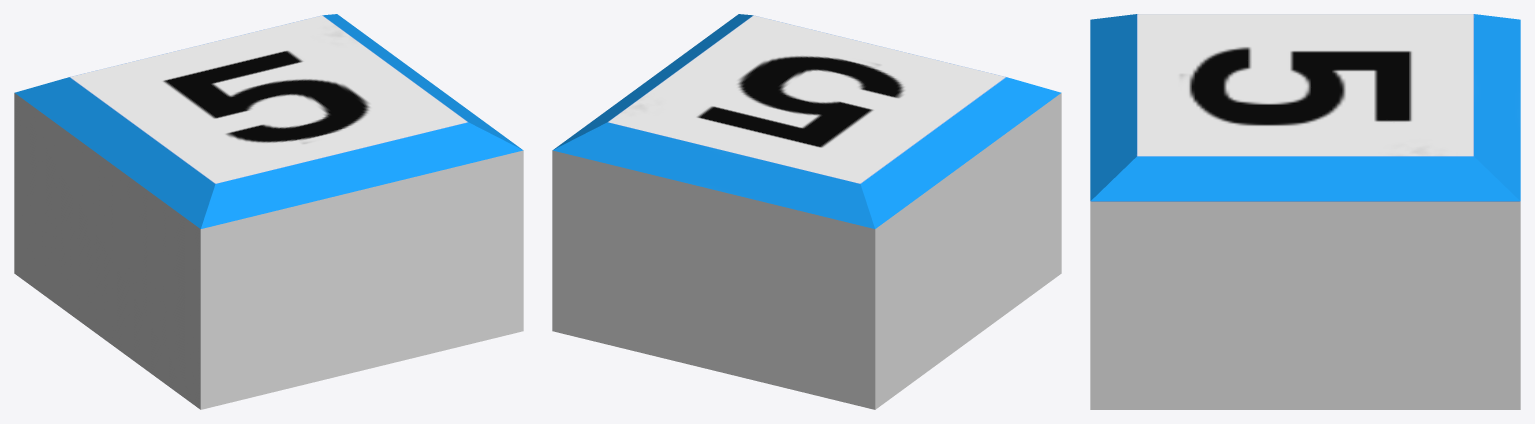
3 renders of one model, left to right at view 1: azimuth 30°, elevation 25°; view 2: azimuth 150°, elevation 25°; view 3: azimuth 270°, elevation 25°, orthographic. The views are drawn at different scales.
Parts seen in each view (by area): view 1: button.004; view 2: button.004; view 3: button.004.
Part boxes in pixels (x1,y1,x2,y2): button.004: (14, 14, 523, 409); button.004: (552, 14, 1061, 409); button.004: (1090, 14, 1520, 409).
Bounding box in the file's own units: 20 × 12 × 20.
